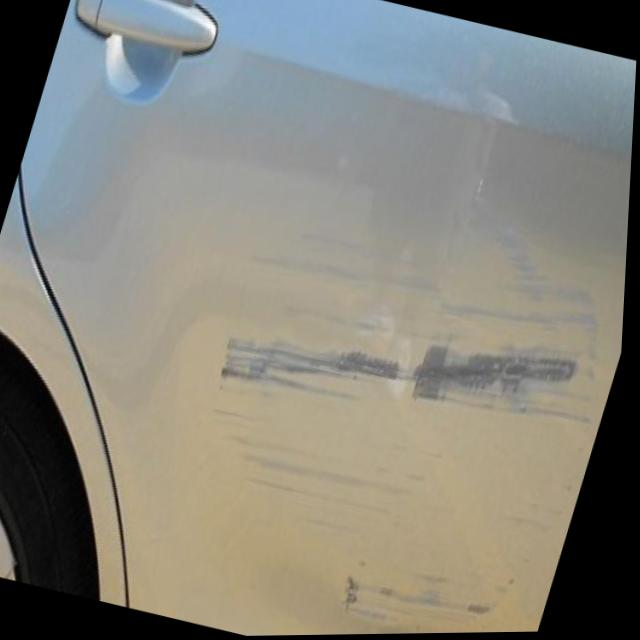Scratch: (207, 250, 607, 468)
